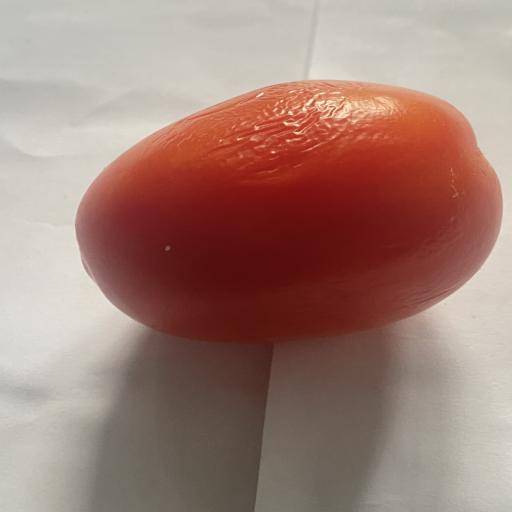spoiled: (76, 80, 502, 342)
